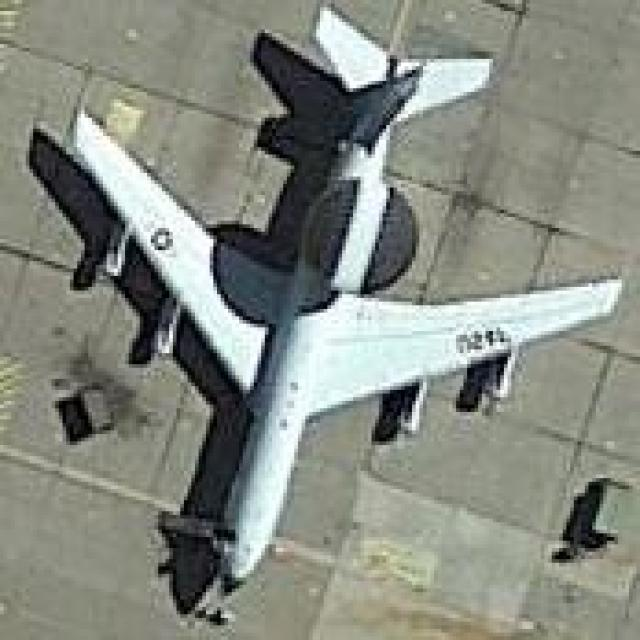E-3_TopDown: (22, 11, 622, 618)
